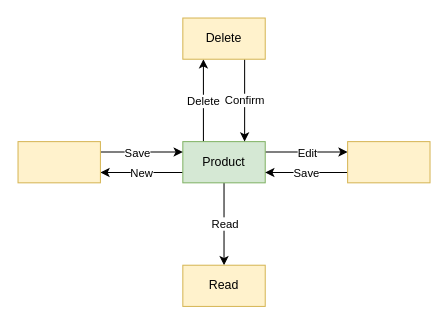
Some shapes in this 448 by 324 pixel diagram are drawn without their labels. The shapes that lost their labels are listed below. From the top down, each one's centre as x and y in pixels, then its label:
the point at 58,162: Create
the point at 388,162: Update
